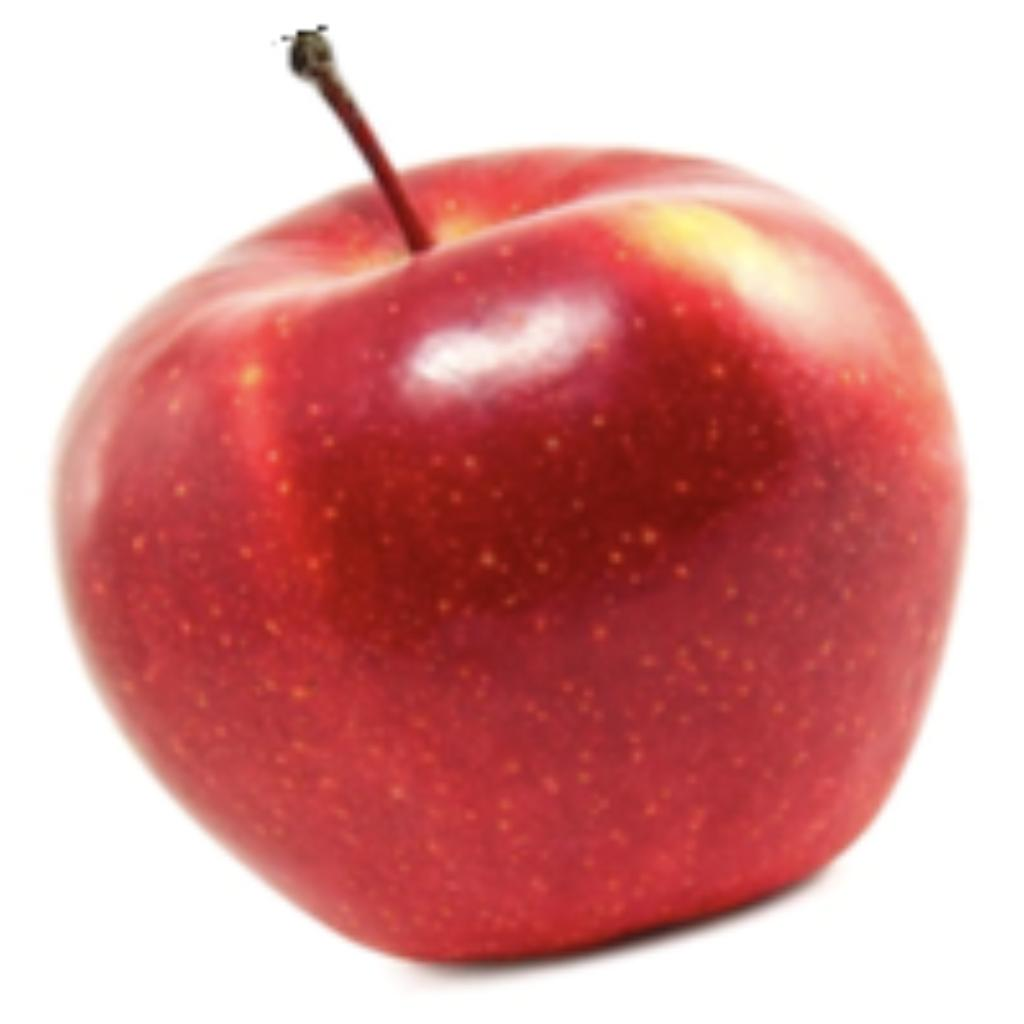apple: (41, 20, 973, 993)
